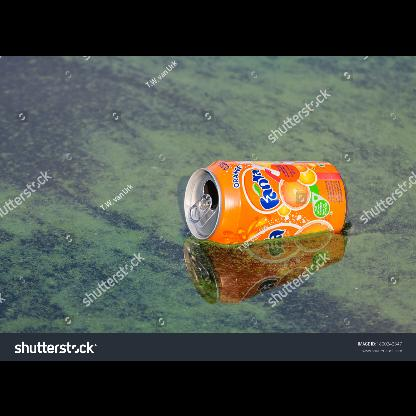Lid_Open: (178, 176, 224, 228)
Tin_Can: (183, 156, 349, 250)
